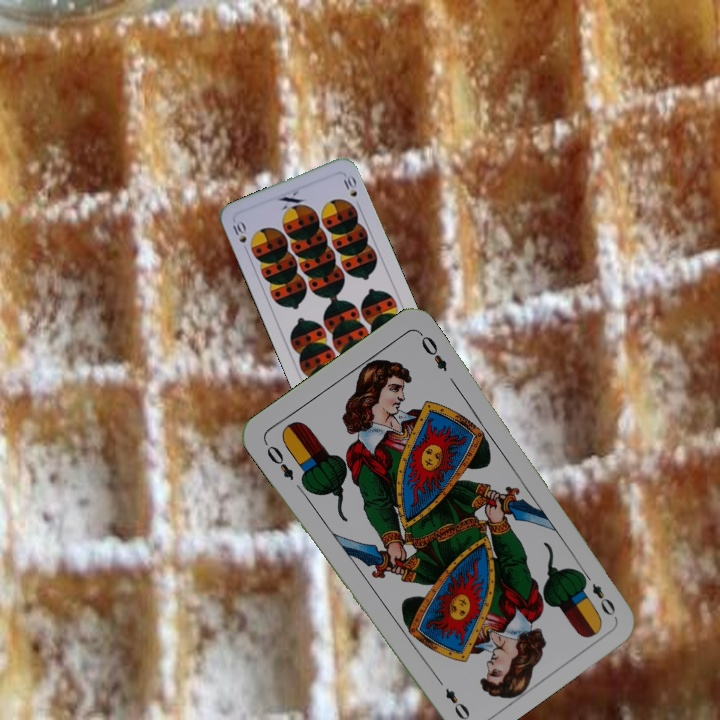EO: (576, 567, 618, 619), (262, 441, 297, 483)
S10: (227, 216, 249, 245)
